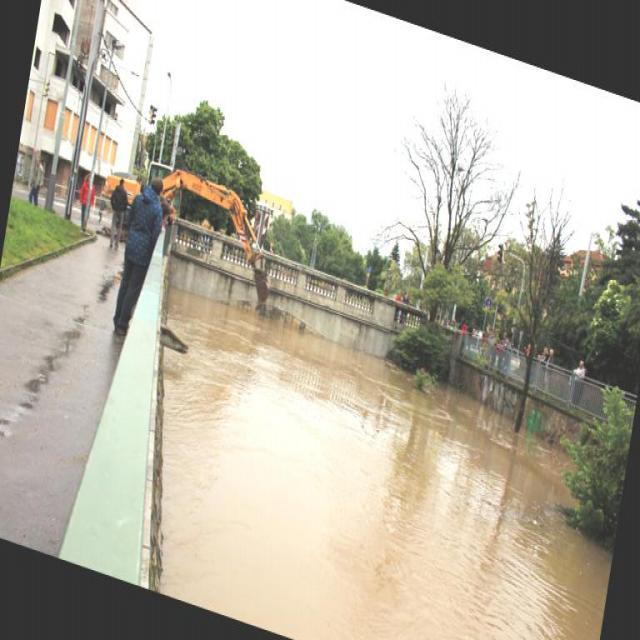flood: (117, 271, 632, 639)
